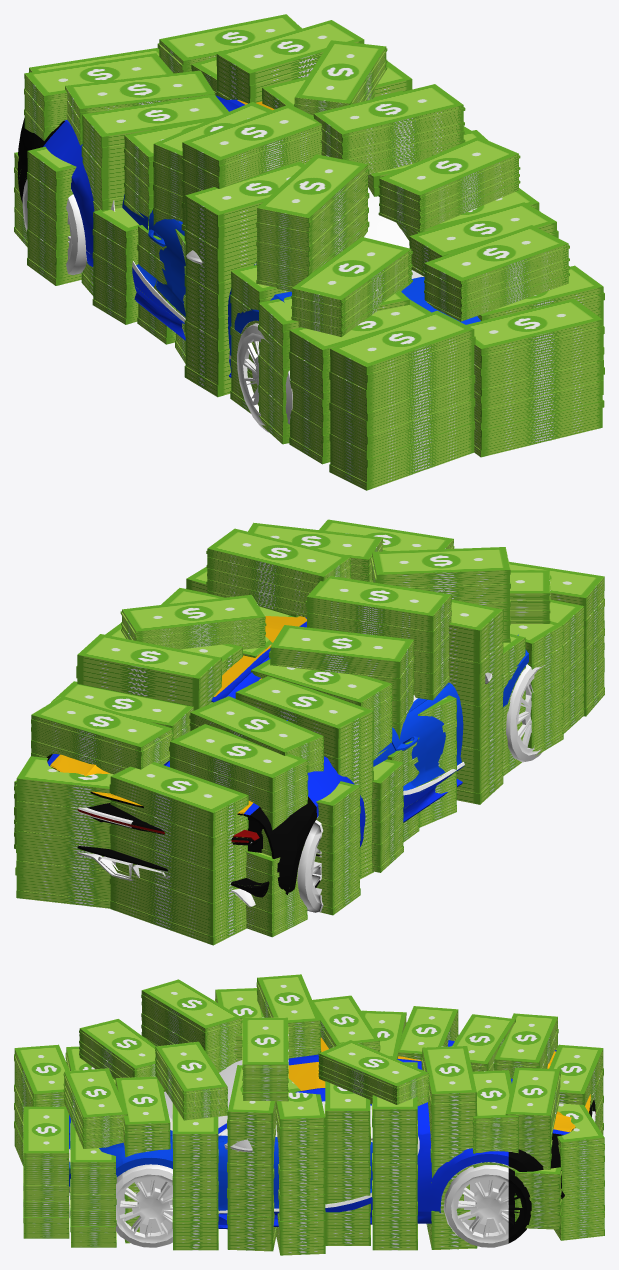
Rendered from bugatti_money_car.fbx.
3 views of the same model, one above another, from view 1: azimuth 30°, elevation 25°; view 2: azimuth 150°, elevation 25°; view 3: azimuth 270°, elevation 25° (orthographic). The views are drawn at different scales.
Visible parts, largest first — view 1: Box1889, Box1886, Box1880, Box1896, Box1890, Box1882, Group002, Box1897, Box1883, Box1891, Box1871, Box1888 (+20 smaller); view 2: Box1899, Box1048, Box1883, Box1880, Object111_s_072, Group002, Box1882, Box1867, Box1871, Box1868, Box1892, Box1894 (+20 smaller); view 3: Group002, Box1876, Object111_s_006, Box1877, Box1869, Box1870, Box1868, Box1878, Box1886, Box1896, Box1048, Box1885 (+20 smaller).
Boxes of the visible parts, <box> form: Box1889: <box>329,310,475,490</box>; Box1886: <box>466,298,604,457</box>; Box1880: <box>184,161,304,397</box>; Box1896: <box>256,154,369,291</box>; Box1890: <box>423,225,569,321</box>; Box1882: <box>313,84,465,174</box>; Group002: <box>111,105,480,432</box>; Box1897: <box>378,136,520,232</box>; Box1883: <box>181,104,322,231</box>; Box1891: <box>291,237,412,336</box>; Box1871: <box>81,94,228,295</box>; Box1888: <box>289,299,431,464</box>; Box1899: <box>109,762,248,945</box>; Box1048: <box>15,756,113,908</box>; Box1883: <box>305,576,451,700</box>; Box1880: <box>448,599,503,804</box>; Object111_s_072: <box>46,754,321,912</box>; Group002: <box>222,616,563,822</box>; Box1882: <box>206,528,351,617</box>; Box1867: <box>169,724,308,856</box>; Box1871: <box>235,676,373,879</box>; Box1868: <box>76,634,221,710</box>; Box1892: <box>31,696,173,774</box>; Box1894: <box>269,625,414,739</box>; Group002: <box>69,1037,412,1247</box>; Box1876: <box>276,1078,325,1255</box>; Object111_s_006: <box>412,1040,508,1247</box>; Box1877: <box>227,1065,276,1251</box>; Box1869: <box>372,1062,417,1250</box>; Box1870: <box>324,1081,370,1245</box>; Box1868: <box>421,1046,477,1249</box>; Box1878: <box>172,1103,218,1250</box>; Box1886: <box>23,1106,69,1238</box>; Box1896: <box>141,979,242,1072</box>; Box1048: <box>554,1103,604,1240</box>; Box1885: <box>70,1119,116,1247</box>.
Size of the model in its own units: 229 by 158 by 477.
